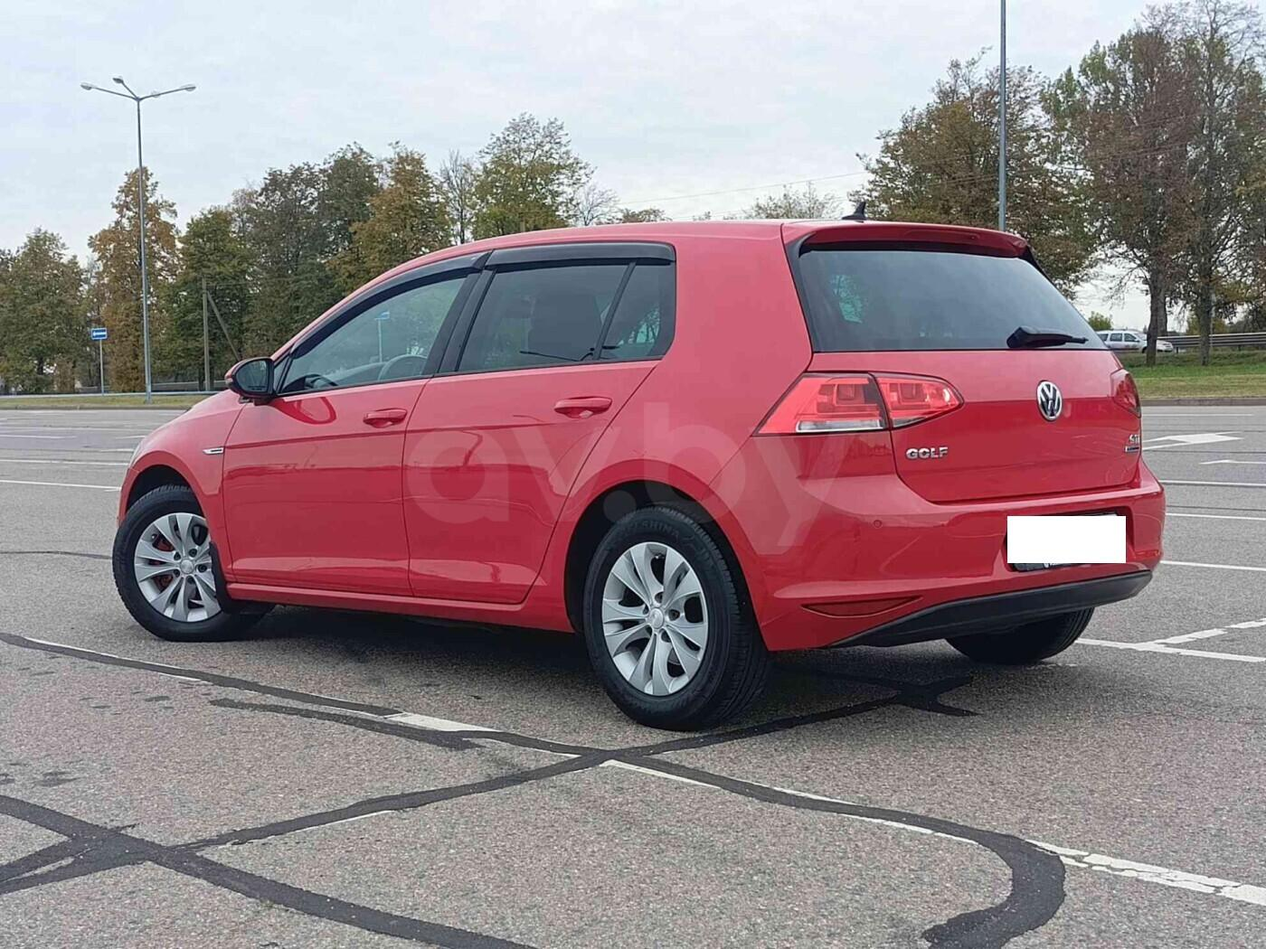Golf_2012-2017: (114, 217, 1152, 718)
